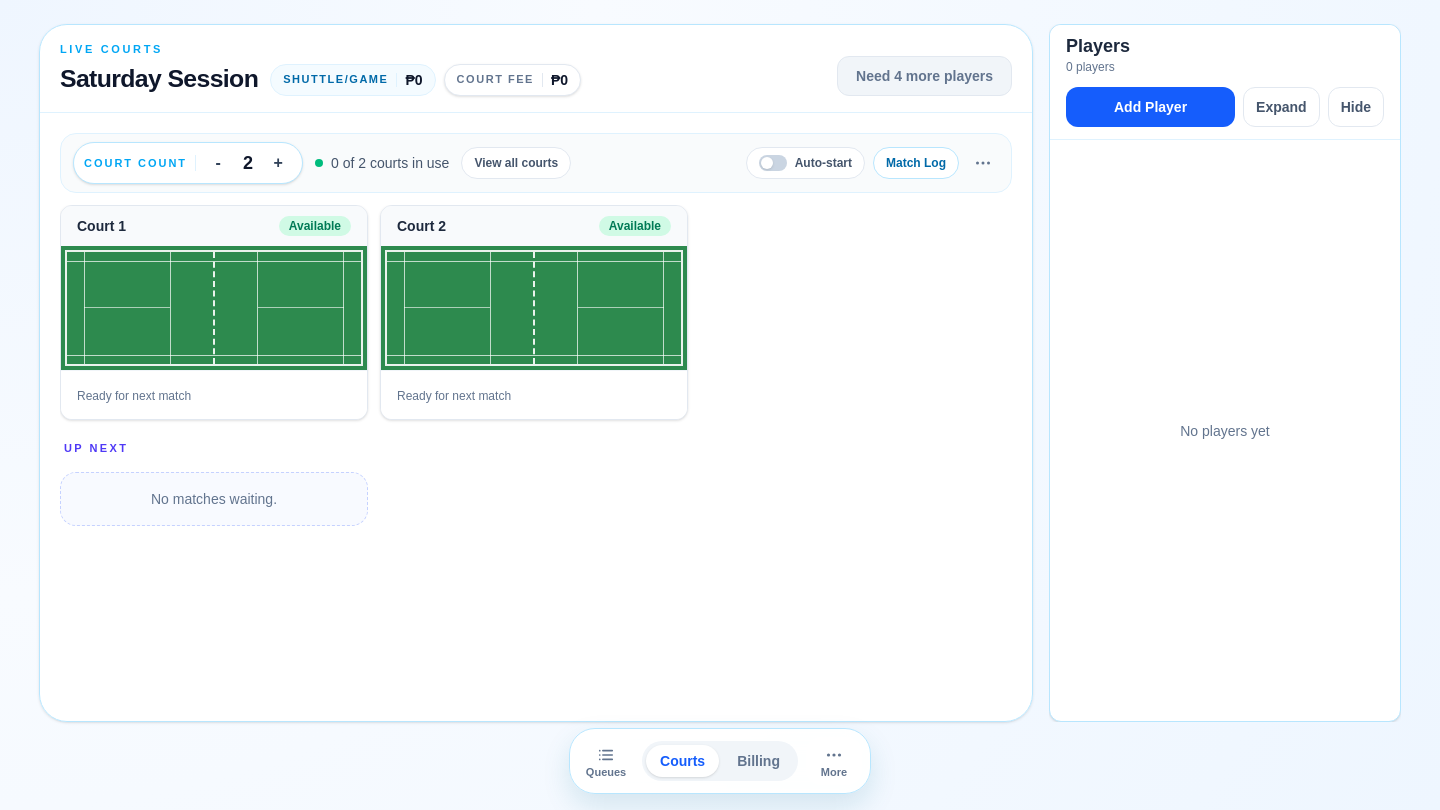
Test: queue page loading and live updates › loads billing data only when its tab opens
Expected: the button named "More court actions" is shown, [967,147,999,179]
Expected: the element "Up Next" shows "No matches waiting.", [151,491,277,507]
Click the button "Billing". click: coordinates (759, 761)
box: [723,745,794,777]
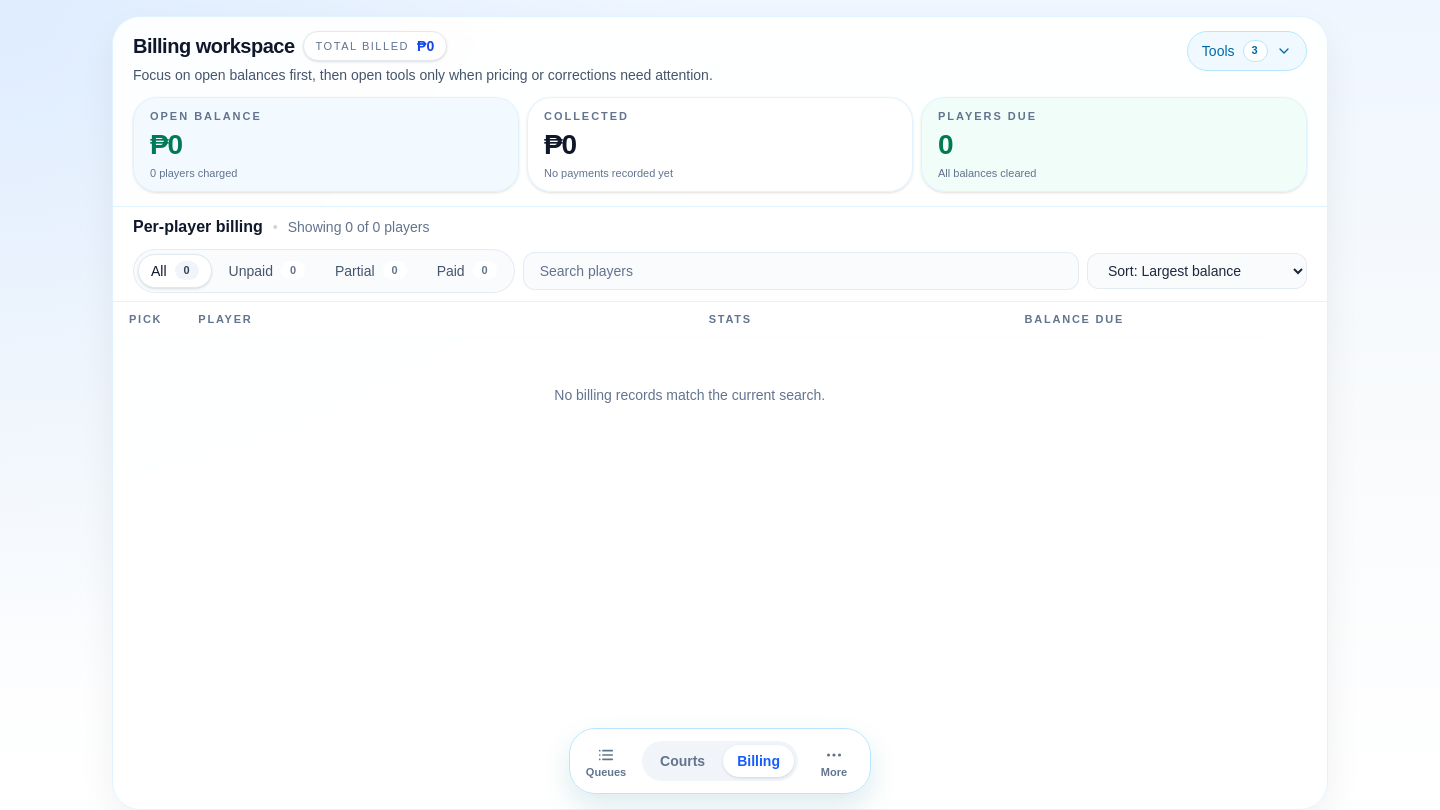
Expected: the heading "Billing workspace" is shown, [133,32,295,60]
